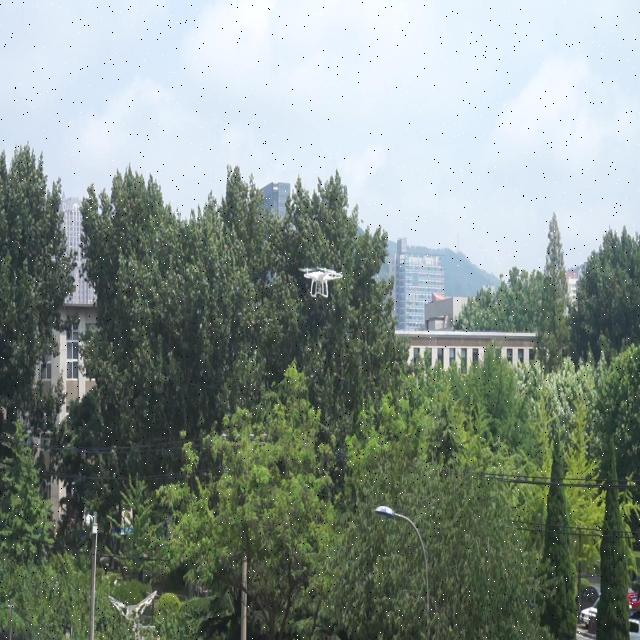UAV: (298, 266, 343, 298)
